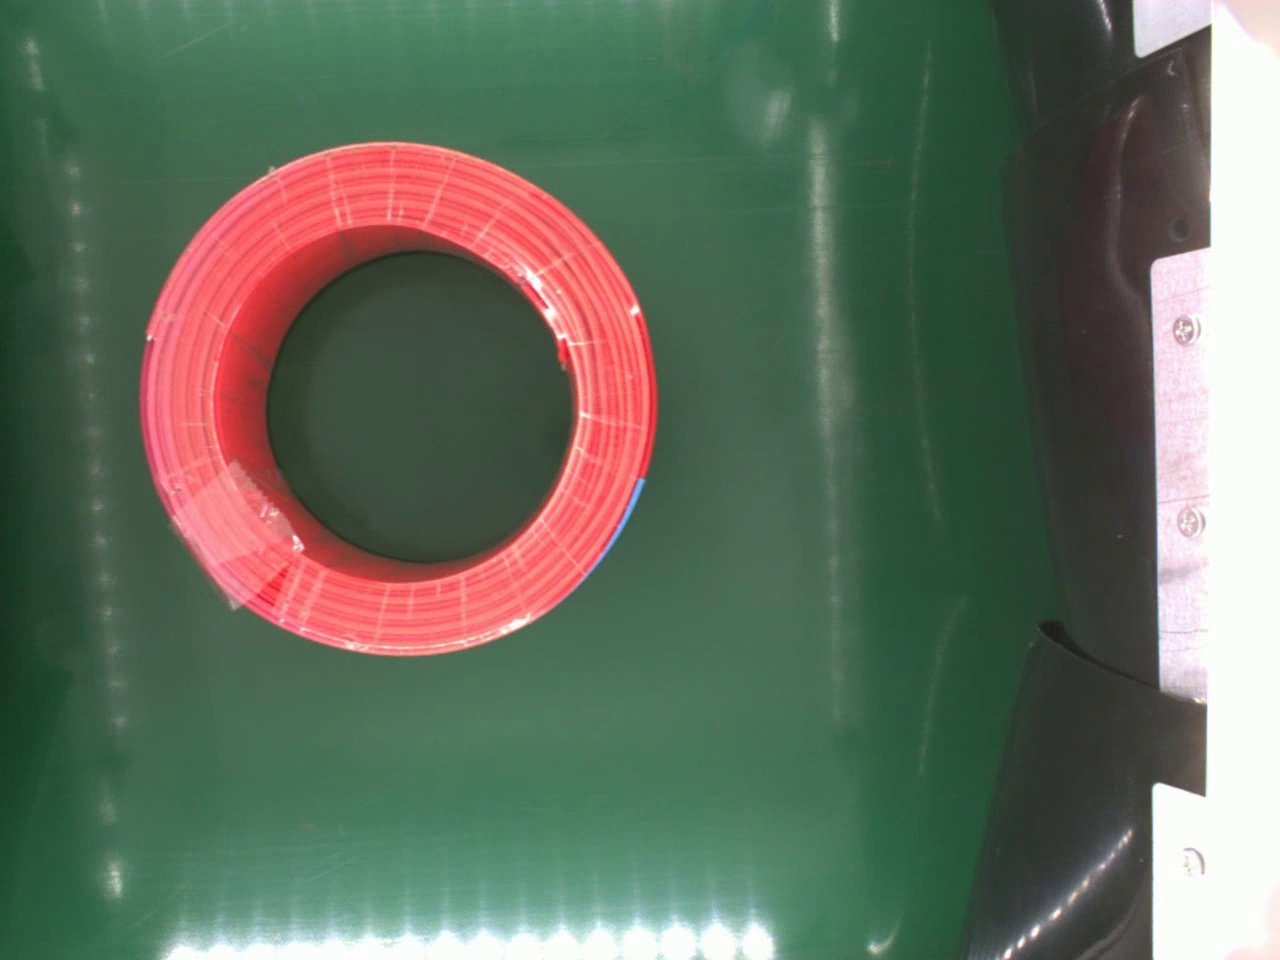red: (142, 142, 663, 656)
